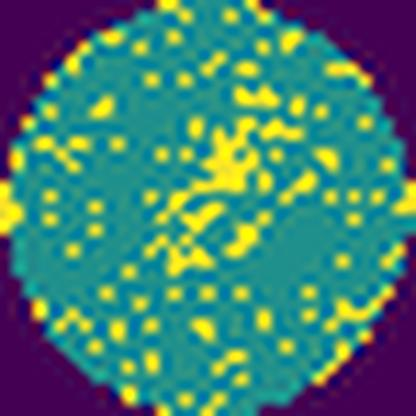Loc: (161, 106, 260, 224), (147, 202, 219, 271)
